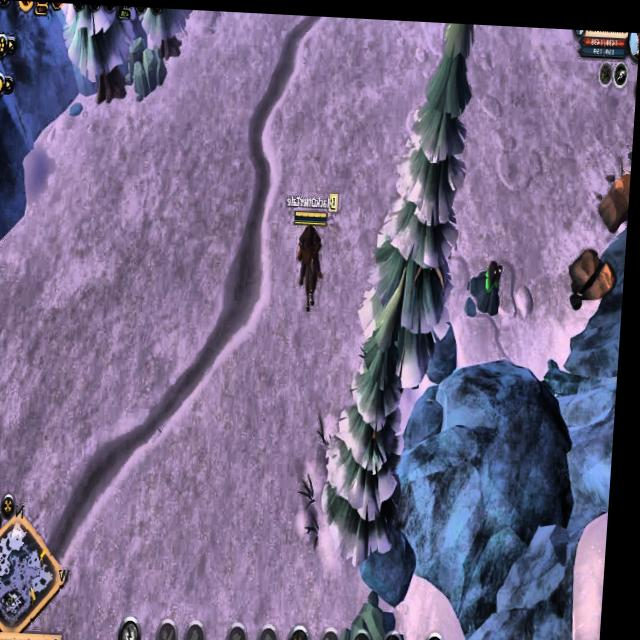limestone: (570, 238, 621, 303), (599, 160, 633, 224)
sandstone: (345, 592, 418, 640), (126, 28, 169, 97)
tinore: (468, 249, 510, 316)
